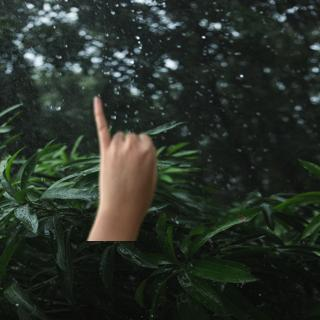Fine: (70, 90, 169, 247)
